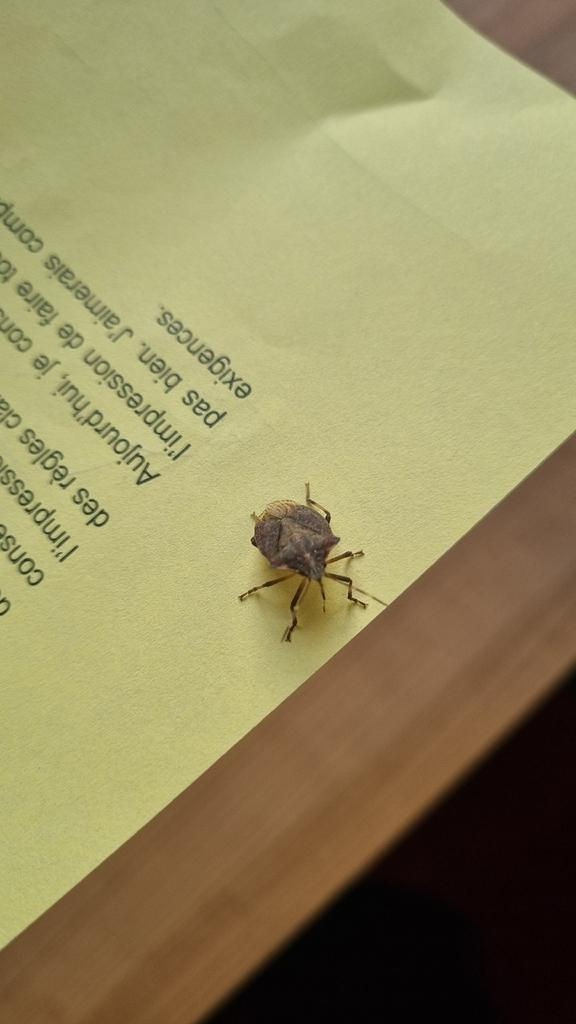stink_bugs: (207, 434, 394, 671)
